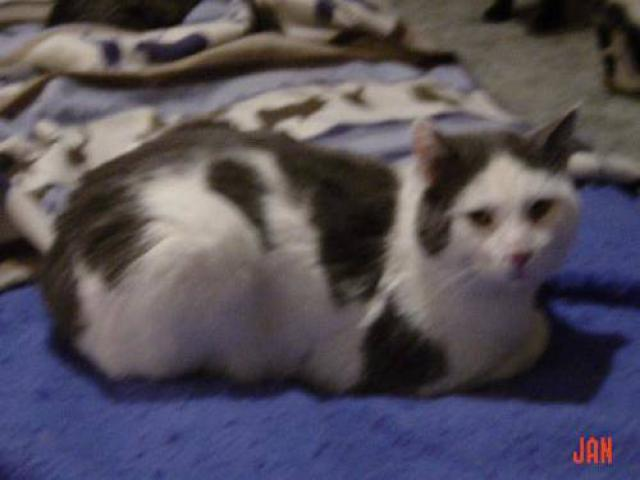cat: (30, 113, 595, 399)
